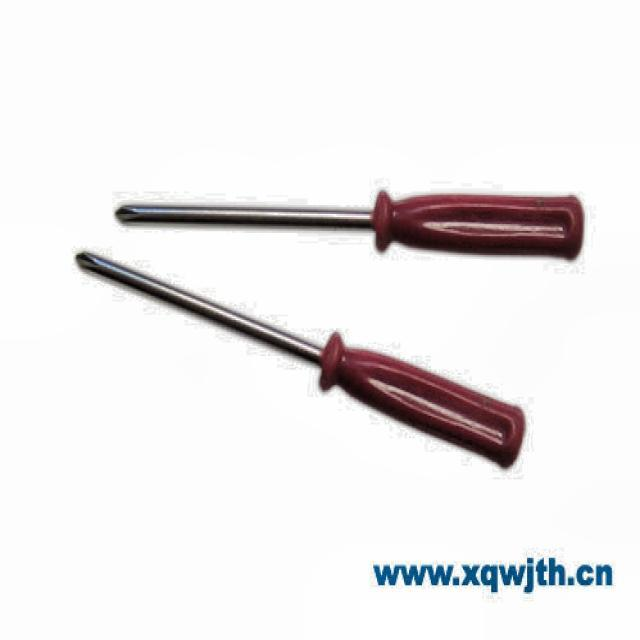screwdriver: (74, 251, 526, 472), (114, 190, 586, 262)
